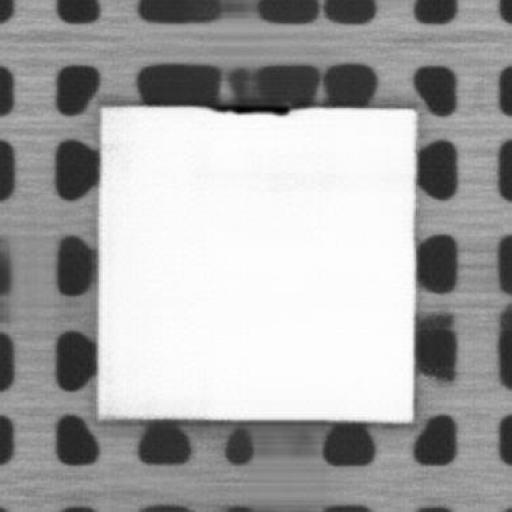DIE_BROKEN: (202, 98, 290, 114)
